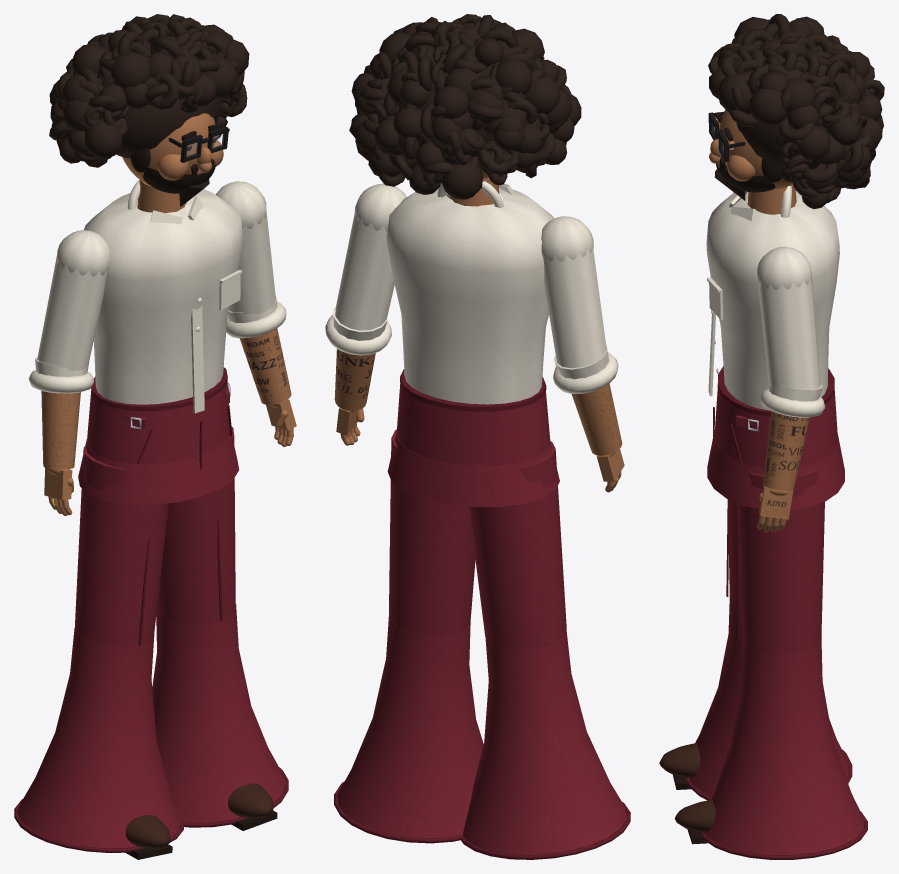
Rendered from saz.glb.
3 renders of one model, left to right at view 1: azimuth 30°, elevation 25°; view 2: azimuth 150°, elevation 25°; view 3: azimuth 270°, elevation 25°, orthographic. The views are drawn at different scales.
Parts seen in each view (by area): view 1: spine, knee_R, knee_L, hair_curls (×2), hips, thigh_R, thigh_L, head, shoulder_R, elbow_R, elbow_L, shoulder_L; view 2: hair_curls (×2), spine, knee_R, knee_L, hips, thigh_R, thigh_L, shoulder_R, shoulder_L, elbow_R, elbow_L; view 3: knee_L, hair_curls (×2), spine, thigh_L, hips, shoulder_L, knee_R, elbow_L, head, thigh_R.
Boxes of the visible parts, box(x1,y1,x2,y2) form: spine: box(84, 179, 243, 413); knee_R: box(14, 628, 183, 859); knee_L: box(152, 604, 288, 830); hair_curls (×2): box(49, 14, 249, 167); hips: box(78, 367, 239, 504); thigh_R: box(75, 446, 168, 645); thigh_L: box(157, 427, 235, 624); head: box(116, 42, 223, 206); shoulder_R: box(37, 230, 110, 370); elbow_R: box(28, 357, 94, 499); elbow_L: box(226, 295, 296, 430); shoulder_L: box(215, 181, 275, 314); hair_curls (×2): box(349, 14, 581, 199); spine: box(386, 177, 554, 404); knee_R: box(460, 630, 630, 859); knee_L: box(334, 616, 483, 843); hips: box(387, 369, 559, 506); thigh_R: box(469, 441, 566, 648); thigh_L: box(389, 429, 475, 634); shoulder_R: box(541, 216, 606, 368); shoulder_L: box(335, 183, 406, 330); elbow_R: box(553, 344, 624, 481); elbow_L: box(325, 306, 391, 435); knee_L: box(674, 636, 867, 859); hair_curls (×2): box(708, 14, 884, 209); spine: box(706, 184, 839, 410); thigh_L: box(736, 469, 824, 653); hips: box(707, 366, 844, 510); shoulder_L: box(756, 246, 820, 389); knee_R: box(659, 596, 852, 800); elbow_L: box(759, 384, 825, 519); head: box(709, 110, 826, 200); thigh_R: box(726, 499, 740, 606).
Size of the model in its own units: 0.7618 by 2.11 by 0.5516.
21 materials, 6 textured.
